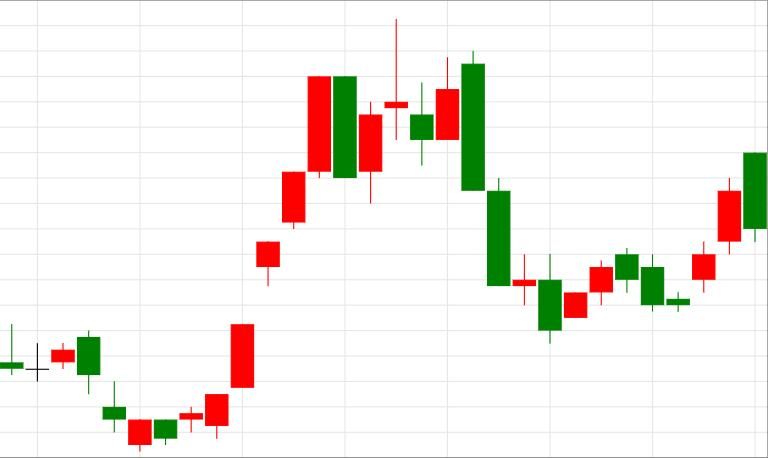bearish_engulfing_fall: (179, 76, 357, 440)
